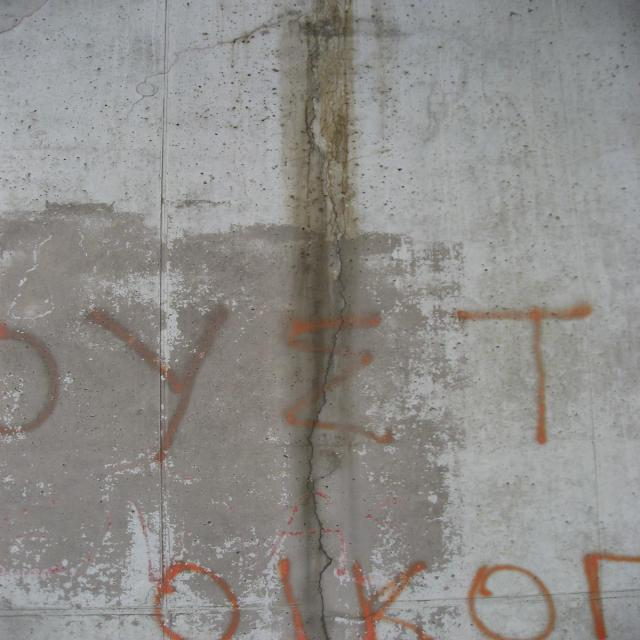diagonal crack: (0, 0, 46, 36)
vertical crack: (122, 6, 348, 640)
